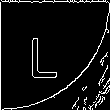L_N: (39, 29, 71, 81)
